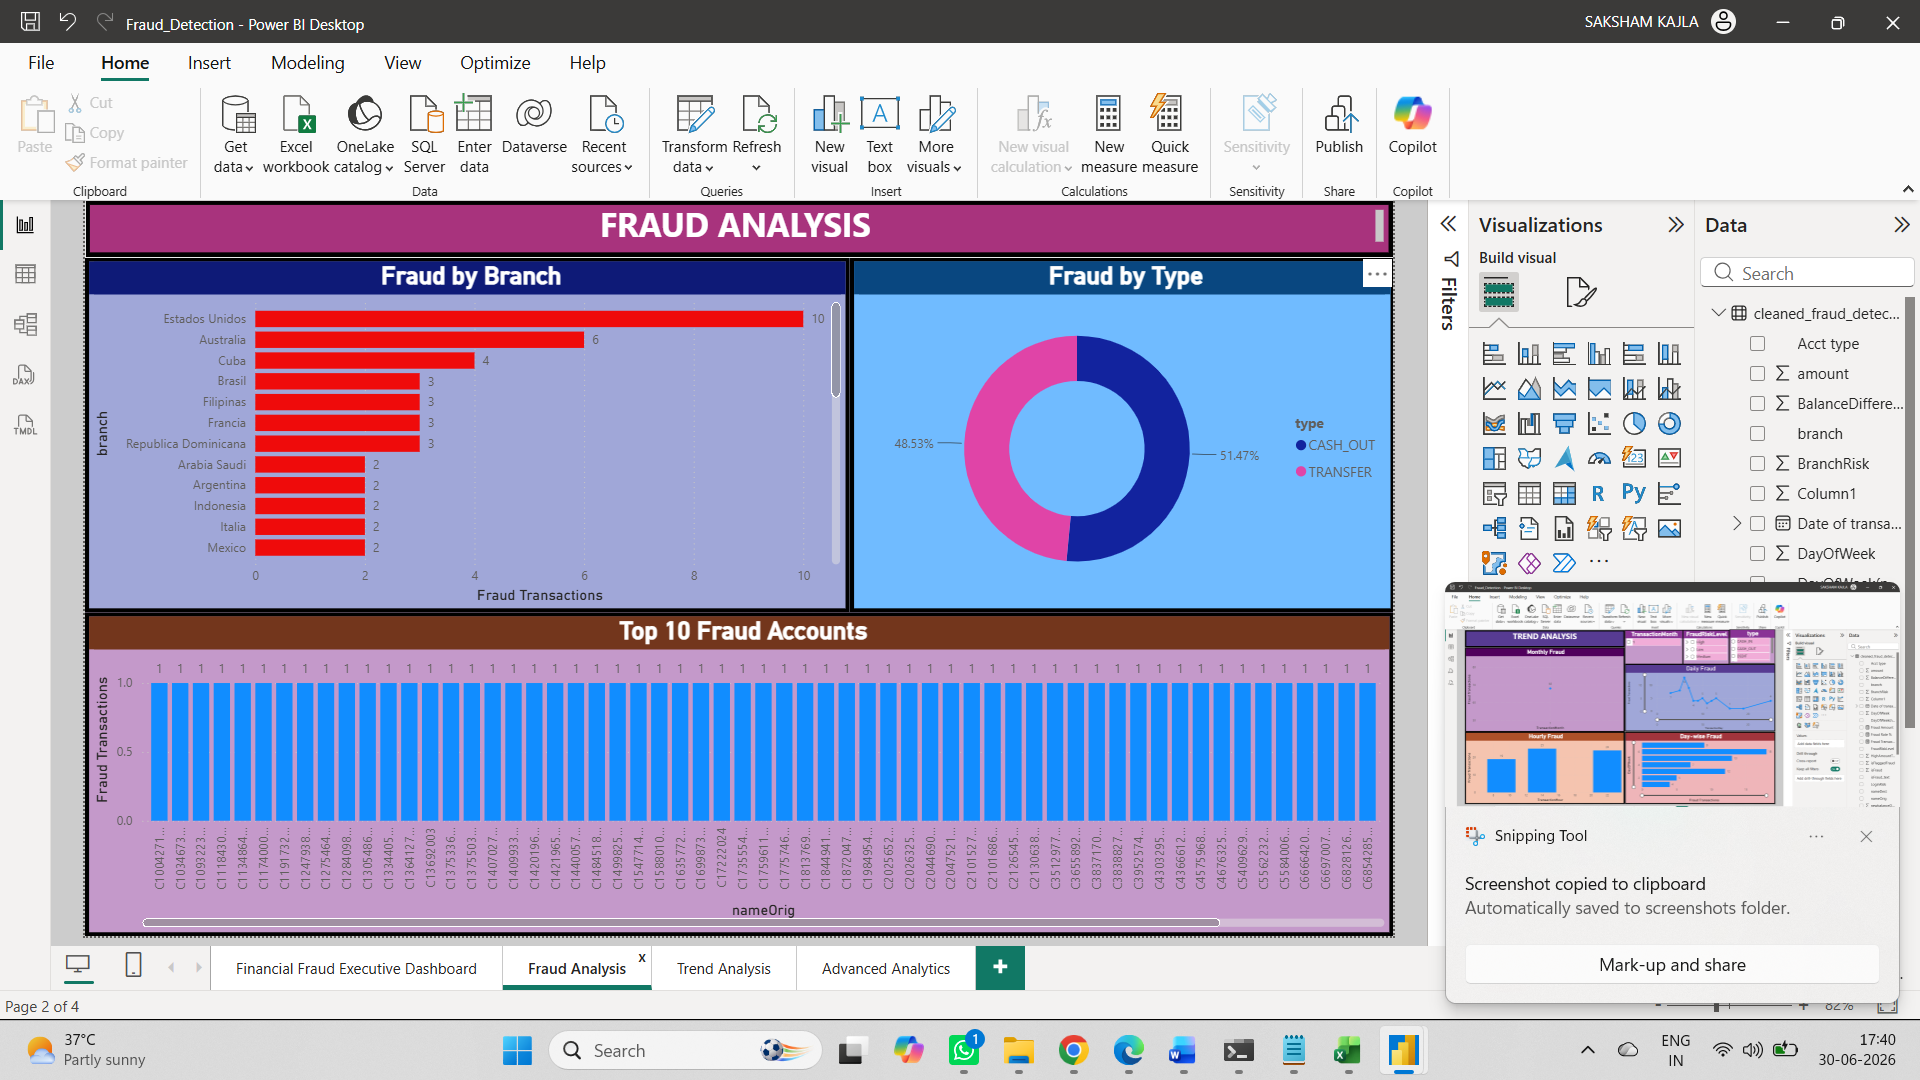

Layout of this report page (visuals, bound fields, positions):
{"tool":"powerbi","page":{"name":"Fraud Analysis","canvas":[1280,720],"ordinal":1},"visuals":[{"type":"clusteredBarChart","title":"Fraud by Branch","fields":{"Category":["cleaned_fraud_detection.branch"],"Y":["cleaned_fraud_detection.Fraud Transactions"]},"box":[0,56.3,747.9,347.2],"z":0},{"type":"donutChart","title":"Fraud by Type","fields":{"Category":["cleaned_fraud_detection.type"],"Y":["cleaned_fraud_detection.Fraud Transactions"]},"box":[747.9,56.3,532.4,347.2],"z":1000},{"type":"clusteredColumnChart","title":"Top 10 Fraud Accounts","fields":{"Category":["cleaned_fraud_detection.nameOrig"],"Y":["cleaned_fraud_detection.Fraud Transactions"]},"box":[0,403.5,1280.3,316.7],"z":2000},{"type":"textbox","box":[0,0,1280.3,56.3],"z":3000}]}

Visuals, with their boxes on the page's 1280x720 design canvas (x1, y1, x2, y2). These are canvas units, not pixel positions in the 1920x1080 screenshot, which may show the page scaled, cropped or inside an application window:
"Fraud by Branch" clusteredBarChart: x1=0, y1=56, x2=748, y2=404
"Fraud by Type" donutChart: x1=748, y1=56, x2=1280, y2=404
"Top 10 Fraud Accounts" clusteredColumnChart: x1=0, y1=404, x2=1280, y2=720
textbox: x1=0, y1=0, x2=1280, y2=56
